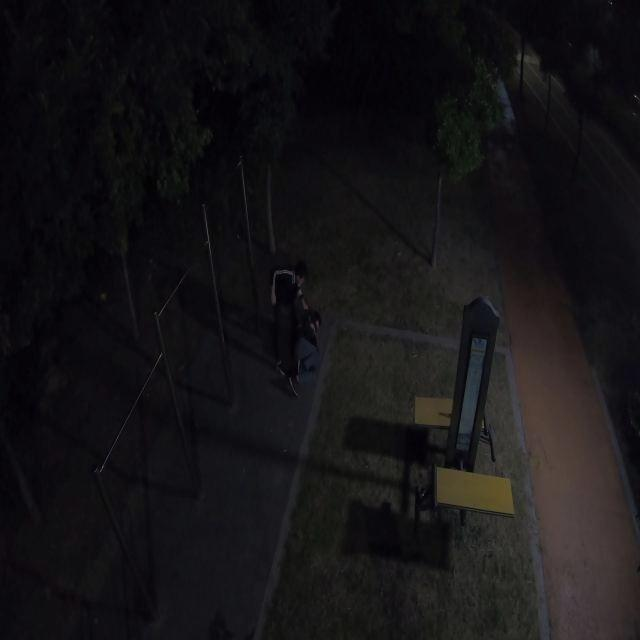fight: (267, 261, 324, 395)
